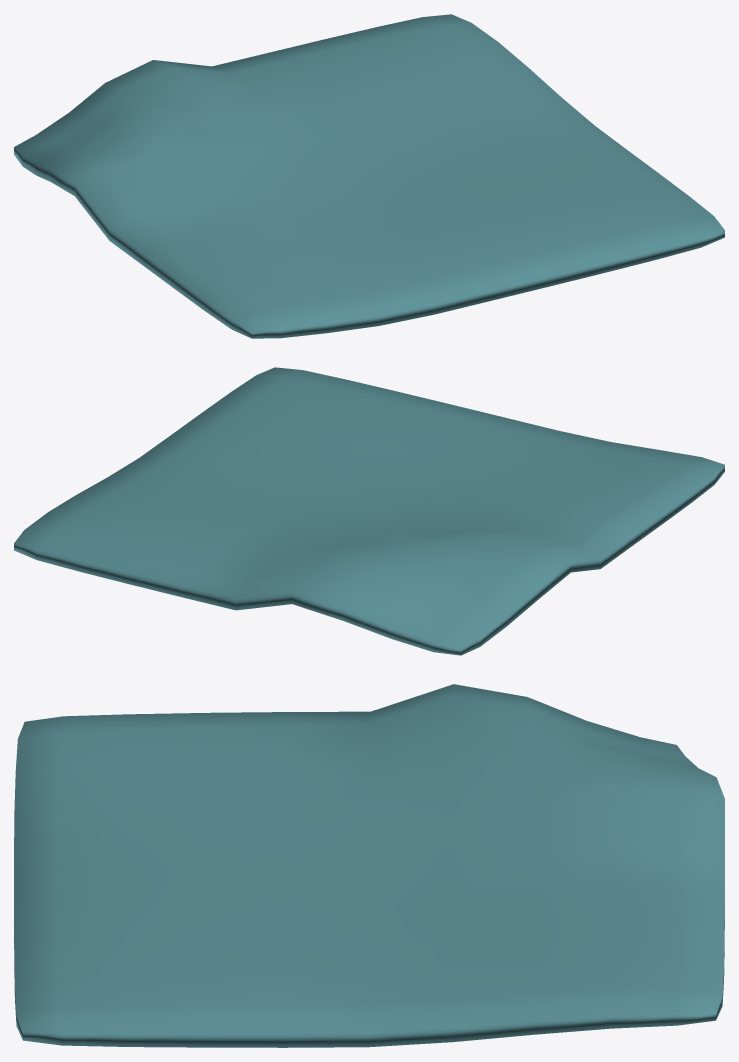
Rendered from sheet.fbx.
3 renders of one model, top to bottom at view 1: azimuth 30°, elevation 25°; view 2: azimuth 150°, elevation 25°; view 3: azimuth 270°, elevation 25°, orthographic. The views are drawn at different scales.
Parts seen in each view (by area): view 1: sheet; view 2: sheet; view 3: sheet.
Boxes of the visible parts, x1,y1,x2,y2 form: sheet: (14,14,724,338); sheet: (14,367,724,655); sheet: (14,684,724,1047).
Size of the model in its own units: 144 by 144 by 19.64.
